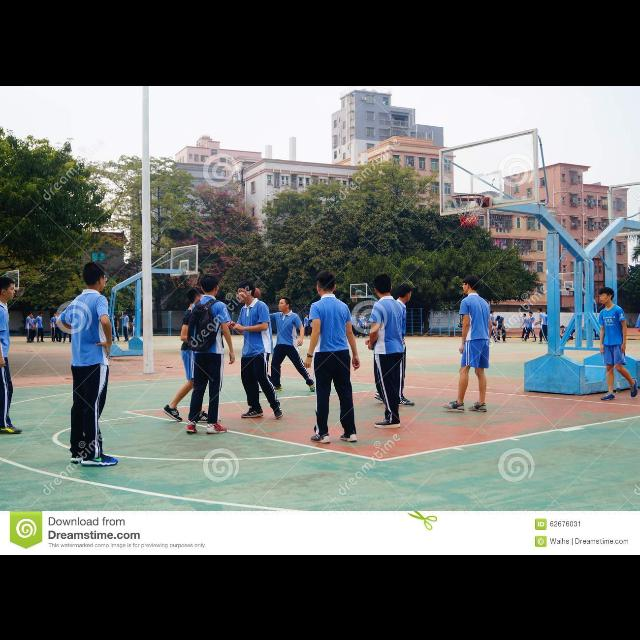head: (82, 260, 108, 292), (316, 270, 338, 296), (0, 274, 18, 302), (374, 274, 394, 298), (237, 280, 256, 304), (200, 274, 220, 296), (187, 288, 207, 306), (397, 282, 413, 302), (463, 276, 479, 294), (599, 287, 615, 303), (278, 297, 292, 311), (538, 307, 542, 313), (529, 310, 533, 316), (497, 314, 501, 320), (490, 309, 494, 315), (561, 326, 565, 330), (545, 311, 549, 315), (352, 313, 356, 317), (124, 312, 128, 316), (132, 314, 136, 318), (112, 314, 116, 318), (28, 312, 32, 316), (40, 312, 44, 316), (56, 313, 60, 317), (31, 314, 34, 318), (524, 313, 526, 317), (360, 313, 362, 317), (362, 314, 364, 318), (54, 313, 56, 317), (306, 314, 308, 316)
person: (54, 258, 118, 466), (304, 268, 362, 446), (184, 272, 236, 436), (227, 278, 286, 420), (161, 284, 217, 424), (440, 273, 494, 413), (248, 286, 316, 394), (364, 272, 404, 430), (372, 280, 420, 408), (596, 284, 640, 402), (0, 274, 24, 436), (534, 306, 548, 344), (522, 310, 538, 342), (486, 308, 498, 342), (34, 310, 46, 342), (495, 314, 507, 342), (542, 309, 552, 341), (120, 312, 130, 342), (110, 312, 120, 342), (50, 312, 59, 342), (520, 312, 530, 338), (26, 311, 34, 343), (559, 324, 573, 342), (54, 312, 62, 342), (28, 313, 36, 342), (131, 312, 139, 340), (302, 312, 310, 338), (349, 312, 357, 338), (358, 312, 366, 338), (361, 313, 369, 337)
